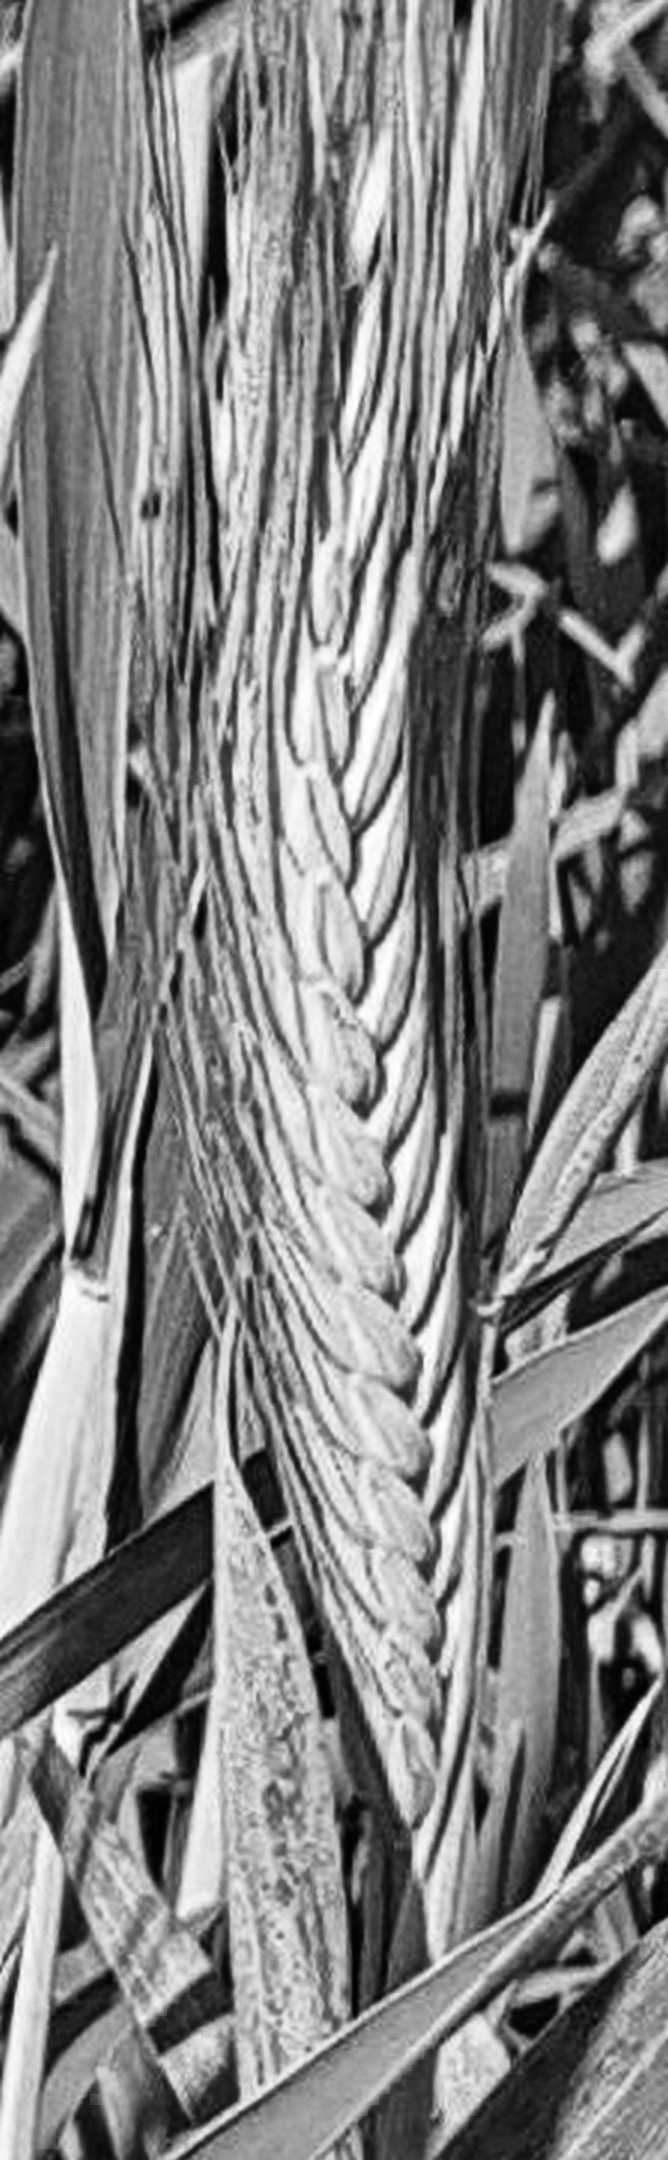Healthy Wheat: (178, 473, 547, 1777)
